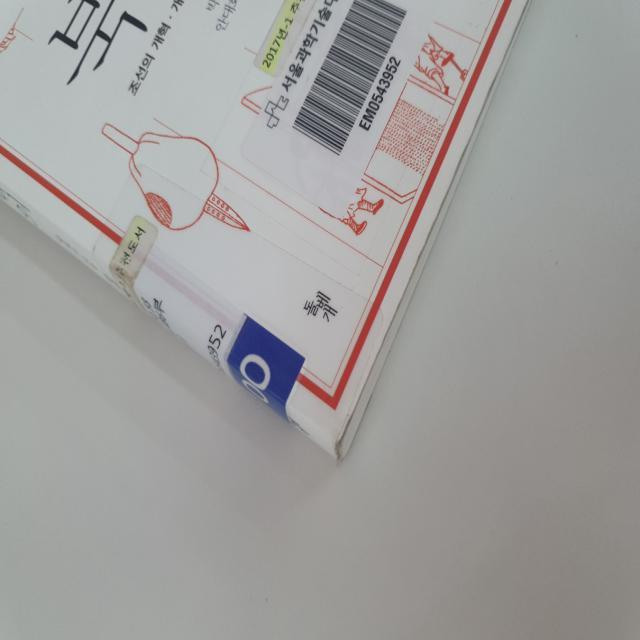Wornout: (331, 380, 367, 471), (498, 0, 530, 70), (445, 127, 477, 195)
